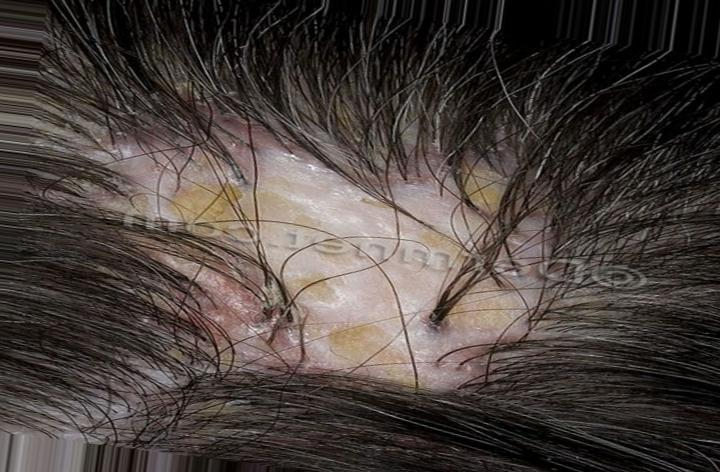Folliculitis: (84, 103, 534, 382)
